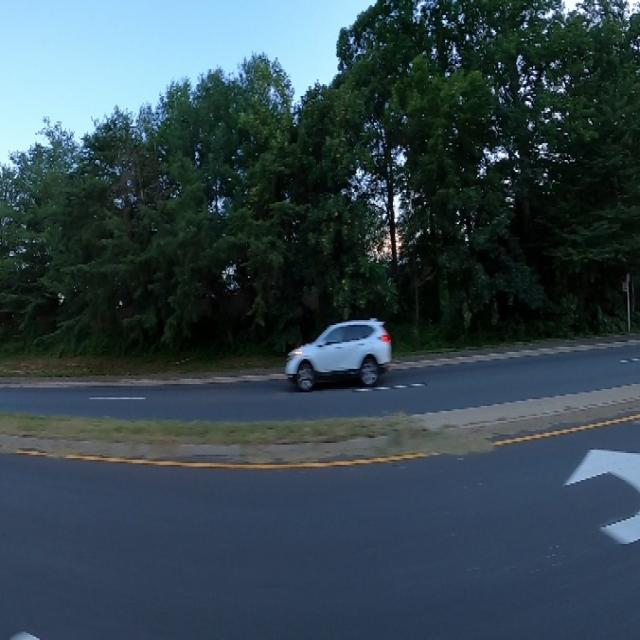cars: (283, 303, 390, 405)
